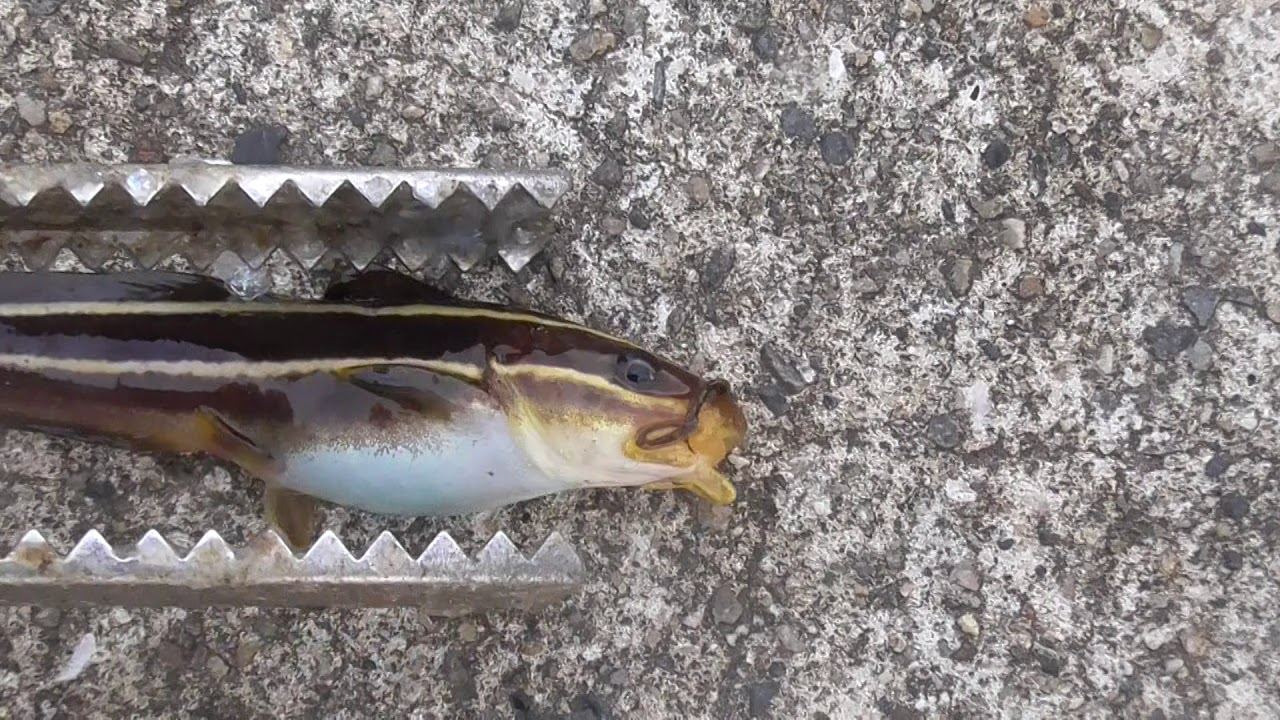gonzui: (3, 230, 789, 555)
